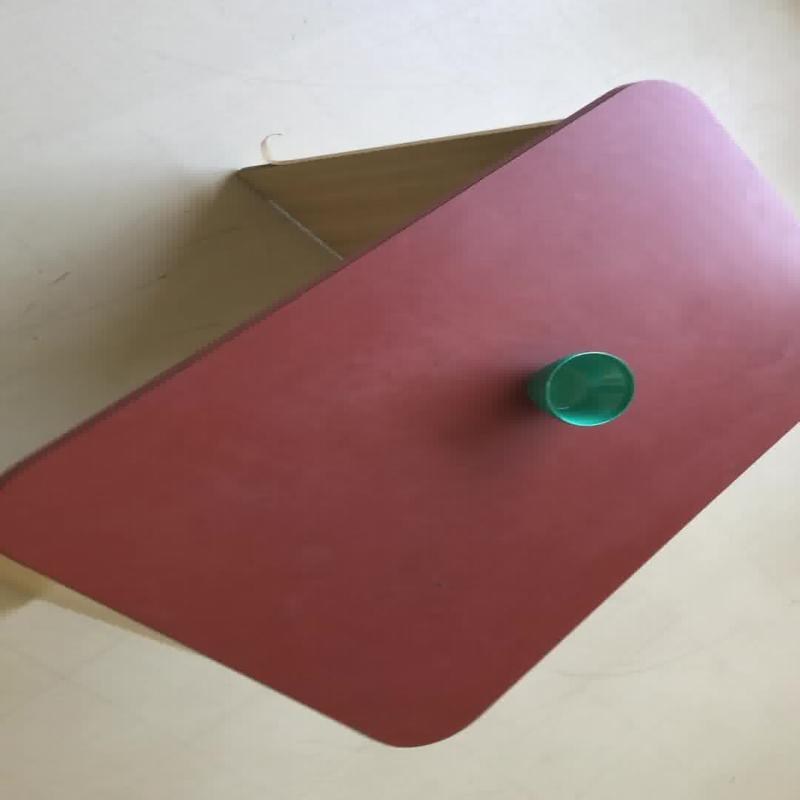bowl: (1, 77, 796, 748), (524, 350, 636, 426)
